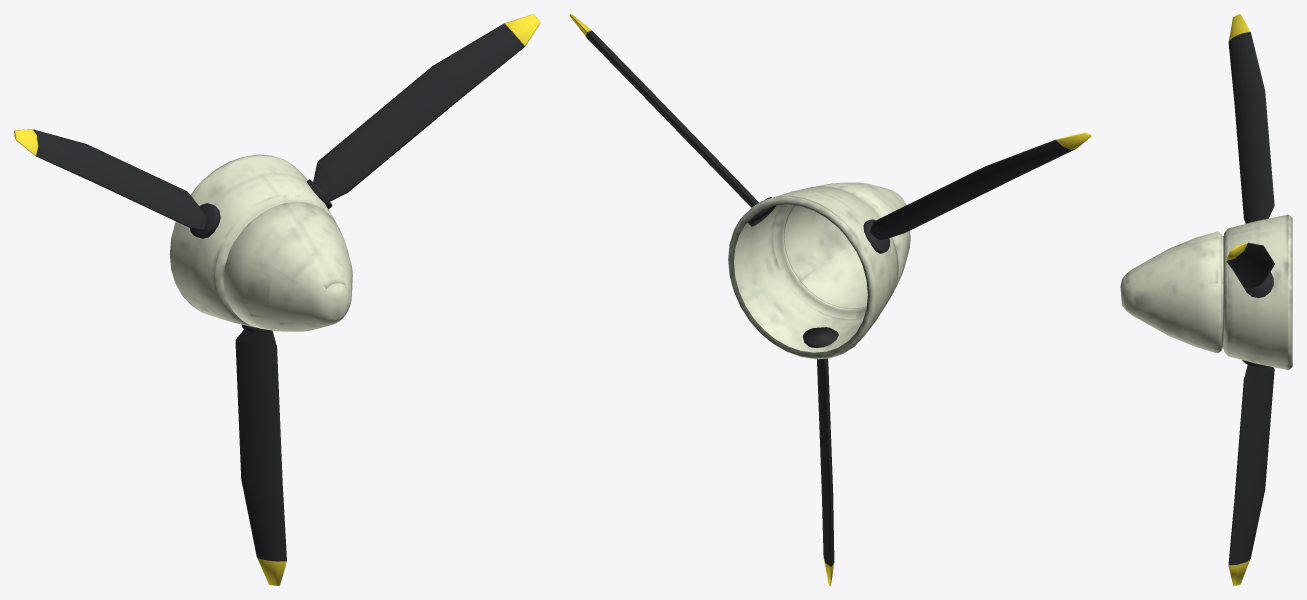
Rendered from Propeller.fbx.
3 views of the same model, side by side, from view 1: azimuth 30°, elevation 25°; view 2: azimuth 150°, elevation 25°; view 3: azimuth 270°, elevation 25° (orthographic). The views are drawn at different scales.
Visible parts, largest first — view 1: Propeller; view 2: Propeller; view 3: Propeller.
Boxes of the visible parts, box(x1,y1,x2,y2) form: Propeller: box(14, 14, 540, 585); Propeller: box(569, 14, 1091, 585); Propeller: box(1120, 14, 1292, 585).
Bounding box in the file's own units: 297 × 280 × 95.25.
1 material, 1 textured.
